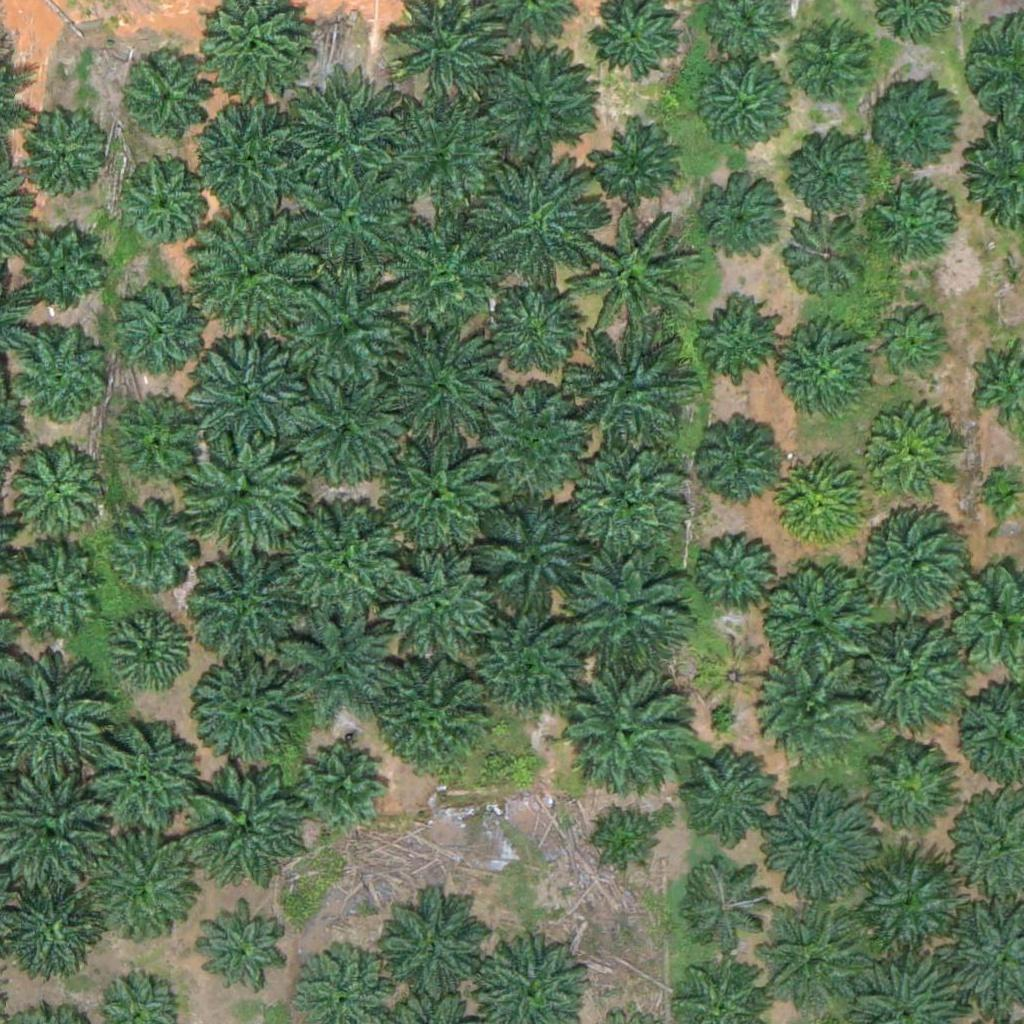Kelapa_Sawit: (379, 90, 504, 216), (384, 218, 509, 344), (384, 330, 509, 456), (378, 440, 503, 566), (372, 653, 497, 779), (282, 604, 407, 730), (278, 500, 403, 626), (285, 267, 410, 393), (290, 159, 415, 285), (284, 79, 409, 205), (188, 99, 313, 225), (187, 328, 312, 454), (183, 433, 308, 559), (181, 766, 306, 892), (88, 720, 213, 846), (469, 161, 594, 287), (469, 387, 594, 513), (466, 494, 591, 620), (467, 603, 592, 729), (561, 558, 686, 684), (569, 670, 694, 796), (569, 330, 694, 456), (566, 214, 691, 340), (748, 646, 873, 772), (854, 502, 979, 628), (851, 618, 976, 744), (749, 782, 874, 908), (368, 538, 493, 663), (282, 370, 407, 495), (199, 210, 324, 335), (473, 40, 598, 165), (564, 433, 689, 558), (93, 823, 206, 937), (186, 557, 299, 670), (191, 660, 304, 773), (380, 900, 493, 1013), (761, 560, 873, 674), (11, 330, 111, 431), (6, 440, 106, 541), (3, 540, 103, 641), (863, 740, 963, 841), (768, 909, 868, 1010), (13, 101, 113, 201), (674, 744, 774, 844), (779, 326, 879, 426), (666, 860, 766, 960), (862, 864, 962, 964), (107, 499, 195, 587), (118, 280, 206, 368), (494, 286, 582, 374), (697, 65, 785, 153), (702, 180, 790, 268), (690, 292, 778, 380), (694, 409, 782, 497), (780, 457, 868, 545), (866, 415, 954, 503), (594, 118, 681, 207), (868, 81, 955, 170), (787, 127, 874, 215), (298, 740, 385, 828), (110, 603, 197, 691), (118, 398, 205, 486), (125, 157, 212, 245), (124, 58, 211, 146), (18, 230, 105, 318), (196, 903, 283, 991), (693, 528, 780, 616), (782, 208, 869, 296), (790, 19, 877, 107), (873, 189, 960, 277), (583, 805, 658, 881), (878, 305, 953, 380), (700, 641, 762, 704)
